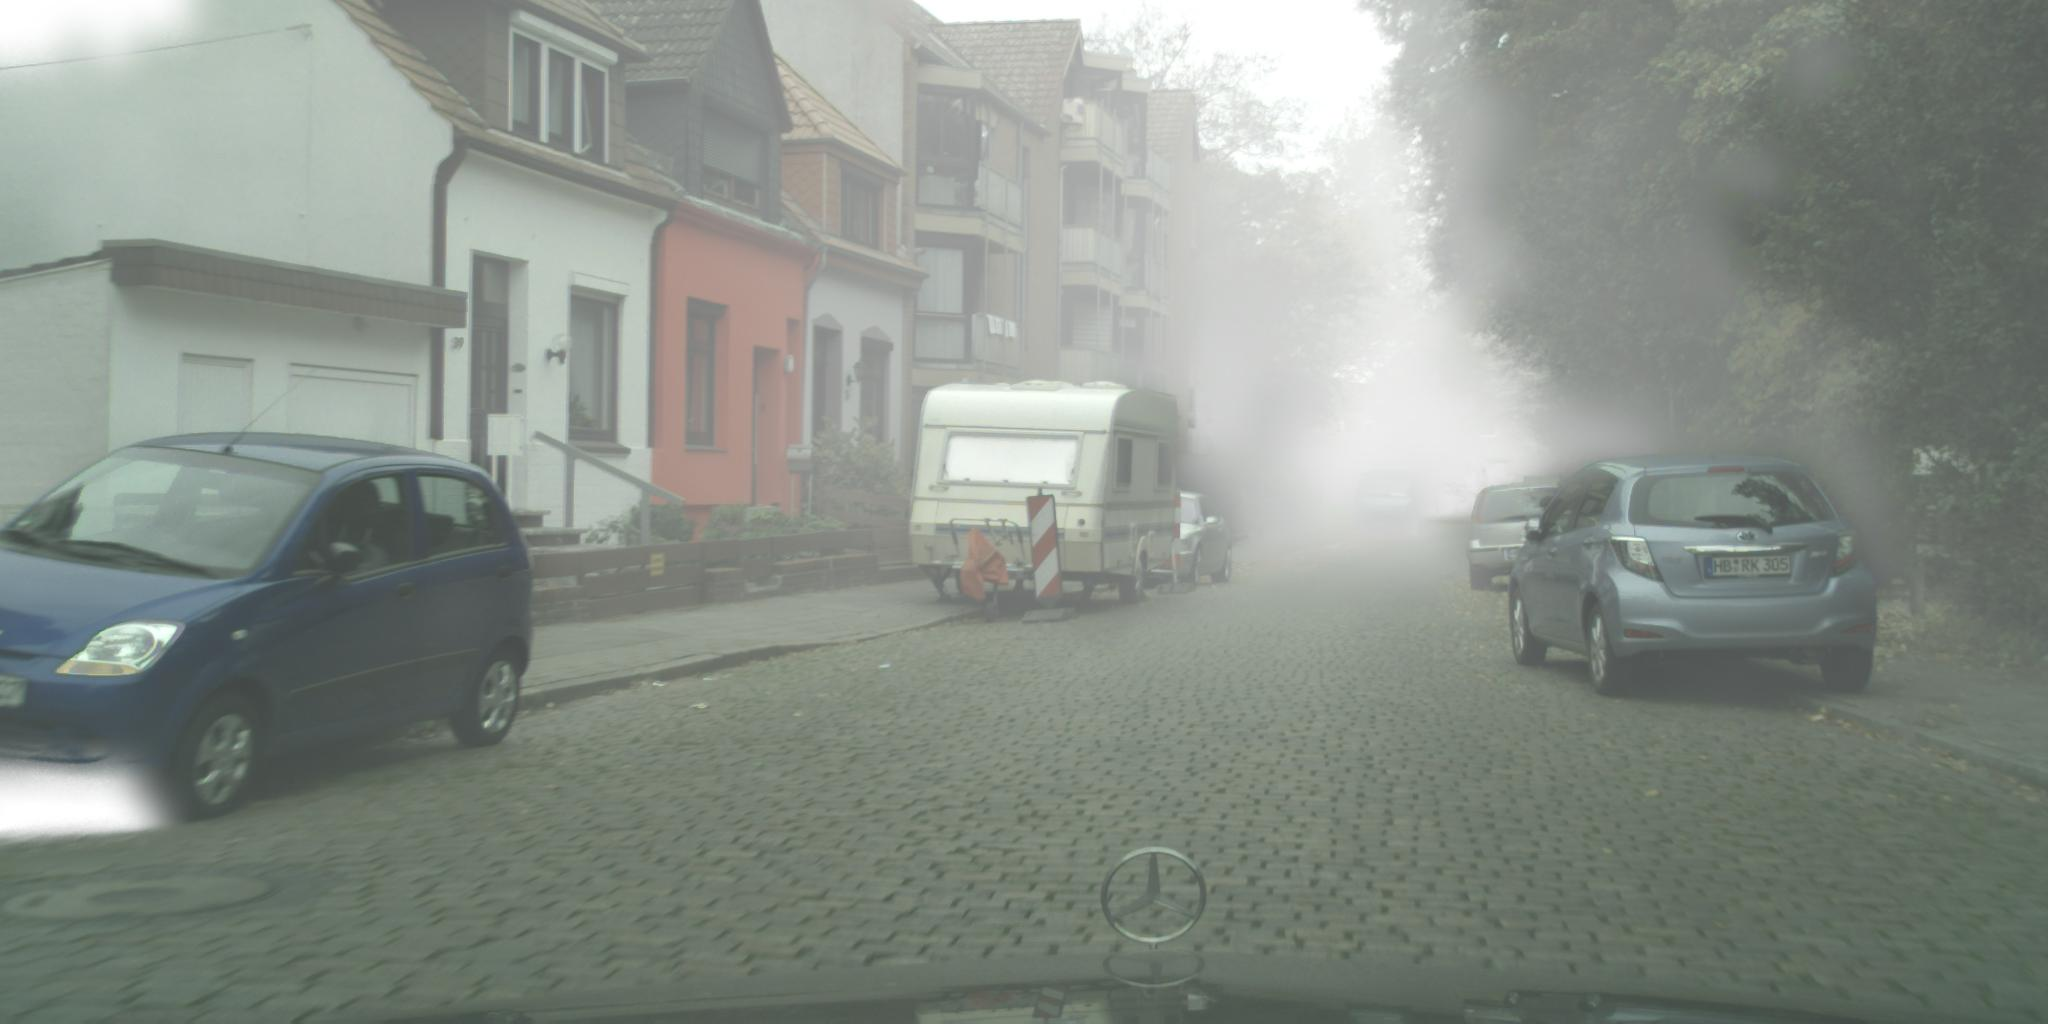car: (1, 434, 538, 825), (1509, 455, 1878, 697), (1468, 483, 1580, 590), (1135, 487, 1233, 588), (1354, 472, 1418, 536)
